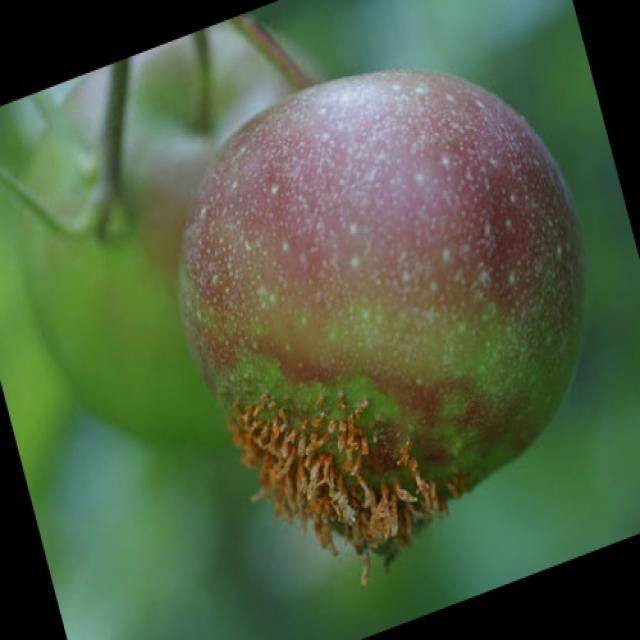Gymnosporangium_Rusts: (176, 65, 586, 584)
